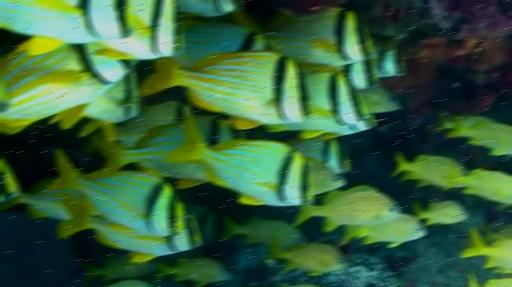Fish: (139, 52, 311, 129), (167, 119, 312, 205), (0, 44, 133, 133), (54, 149, 189, 235), (56, 195, 199, 262), (91, 120, 209, 186), (0, 0, 135, 53), (49, 70, 141, 143), (266, 72, 371, 135), (262, 7, 372, 67), (93, 0, 182, 59), (294, 185, 399, 231), (174, 17, 267, 67), (302, 70, 368, 124), (114, 102, 192, 146), (0, 178, 79, 219), (341, 214, 425, 247), (265, 113, 375, 138), (391, 152, 466, 188), (270, 242, 346, 275), (222, 218, 305, 248), (446, 117, 511, 155), (295, 60, 377, 89), (286, 137, 349, 173), (460, 228, 511, 272), (154, 258, 231, 286), (79, 254, 155, 282), (458, 169, 511, 203), (184, 204, 224, 246), (304, 158, 344, 195), (412, 201, 467, 225), (436, 111, 491, 132), (177, 0, 243, 16), (358, 87, 400, 112), (342, 60, 377, 89), (375, 46, 404, 77), (0, 171, 19, 200), (483, 224, 511, 241), (0, 86, 10, 108), (111, 281, 150, 286), (485, 279, 511, 286), (293, 284, 317, 286)
